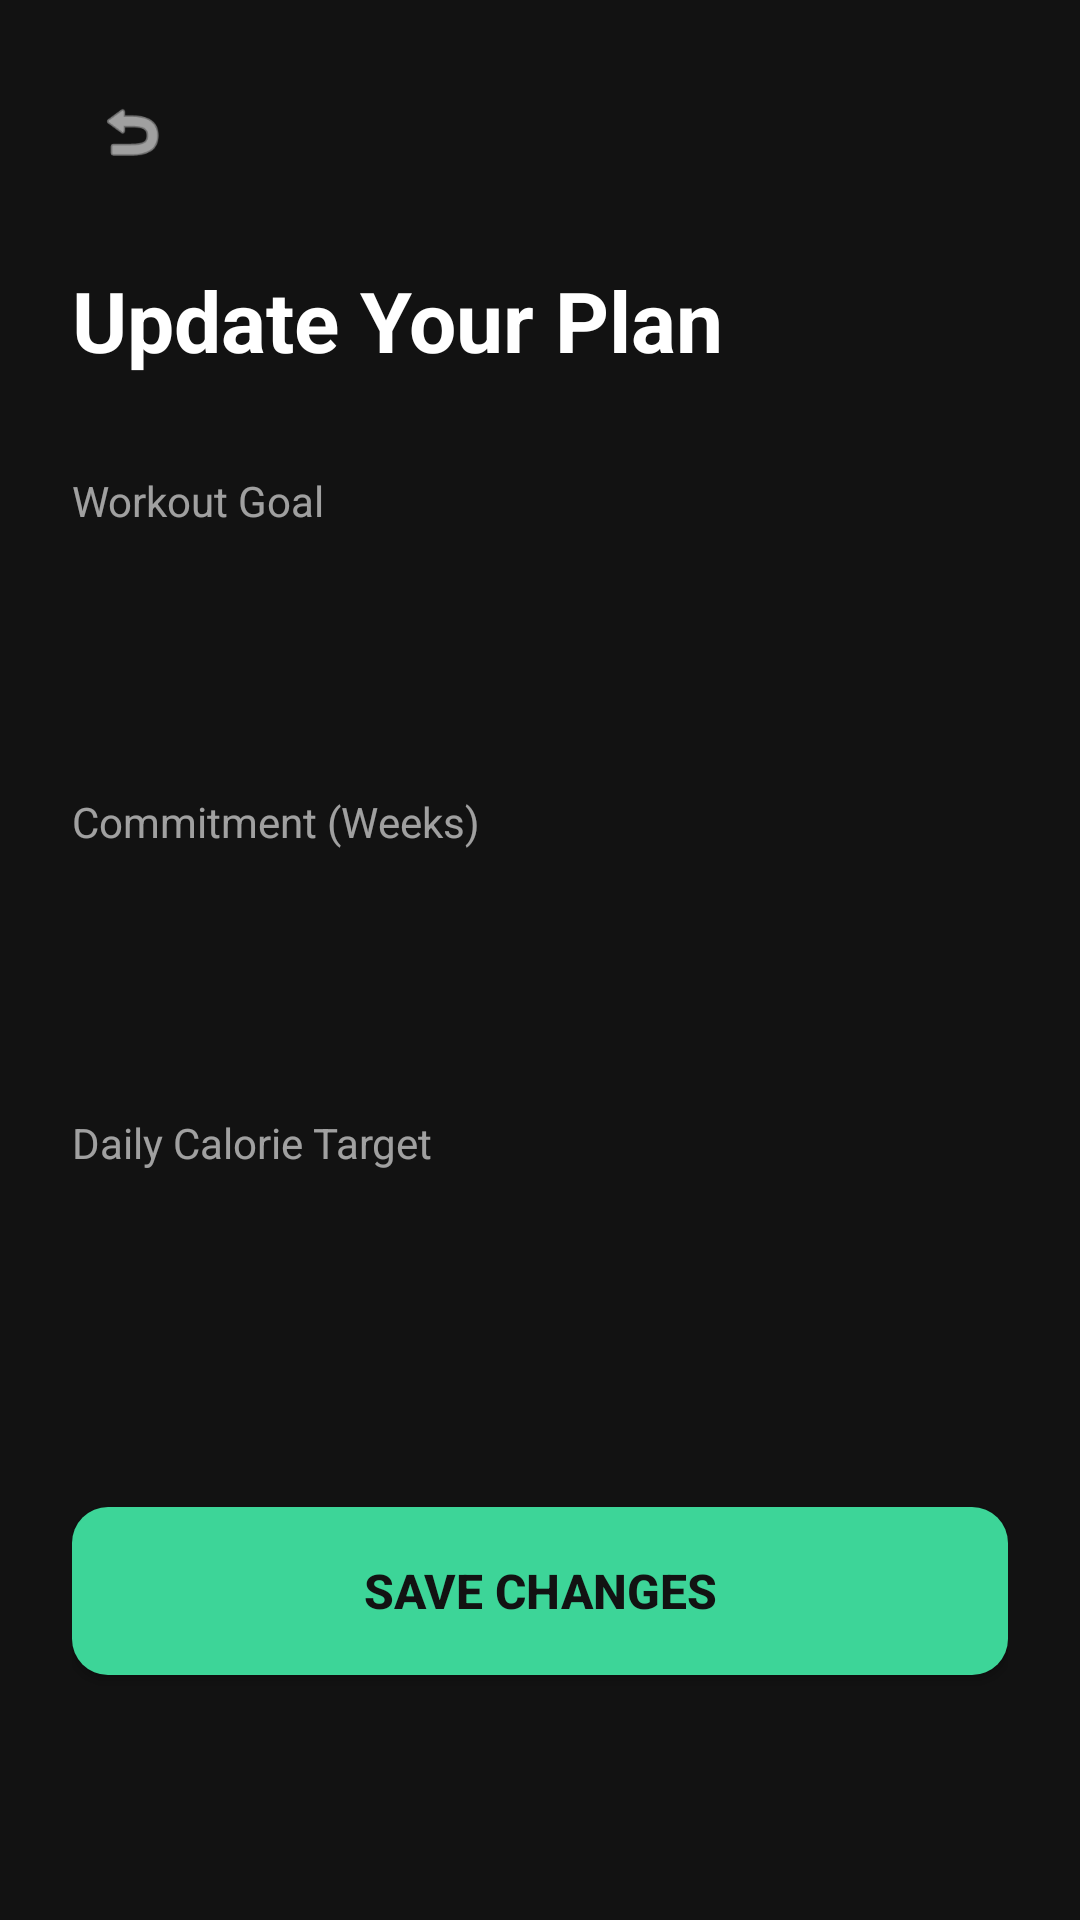

Where icons sit on this 1080x1920 app screen, as (x1, y1, x2, y2):
revert: (107, 109, 159, 156)
